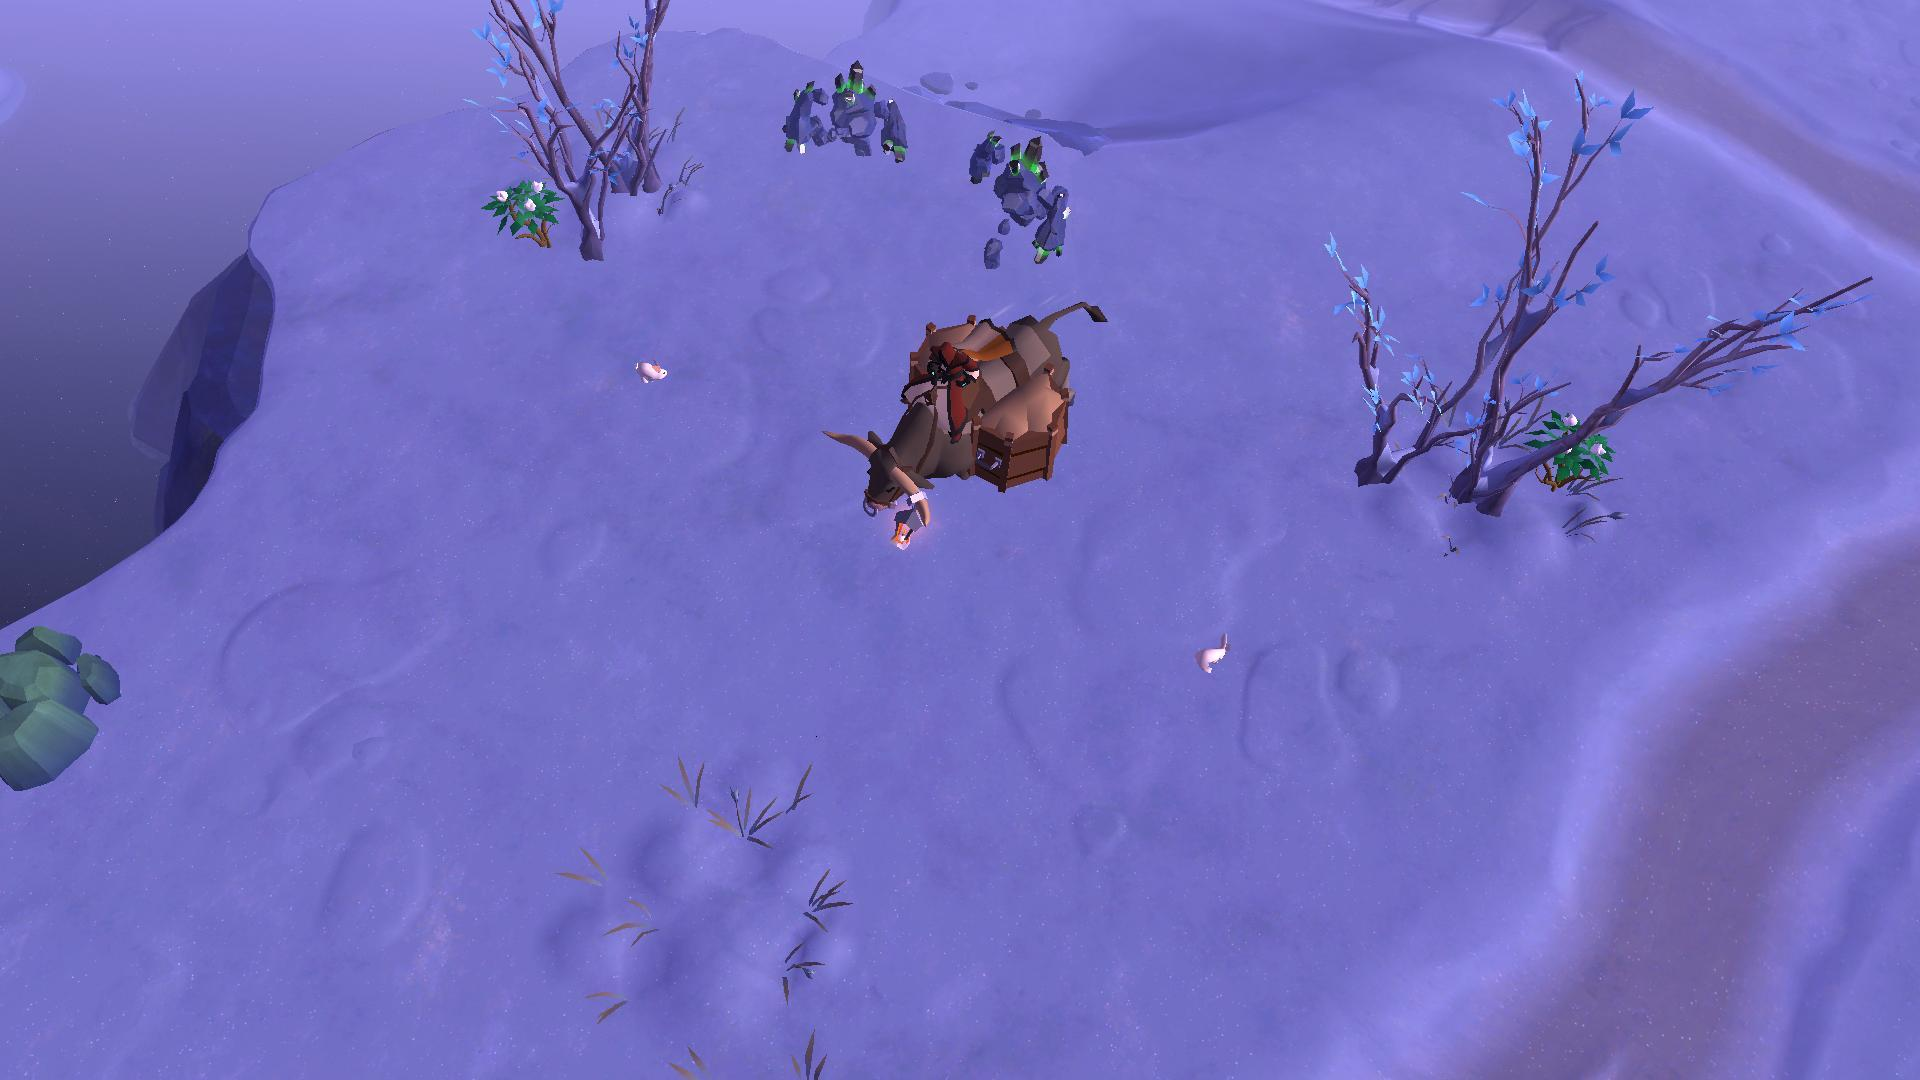fiber_t3: (1514, 398, 1619, 505), (477, 167, 575, 256)
mobOre_t3: (956, 128, 1080, 280), (777, 61, 914, 171)
rock_t3: (0, 622, 148, 804)
